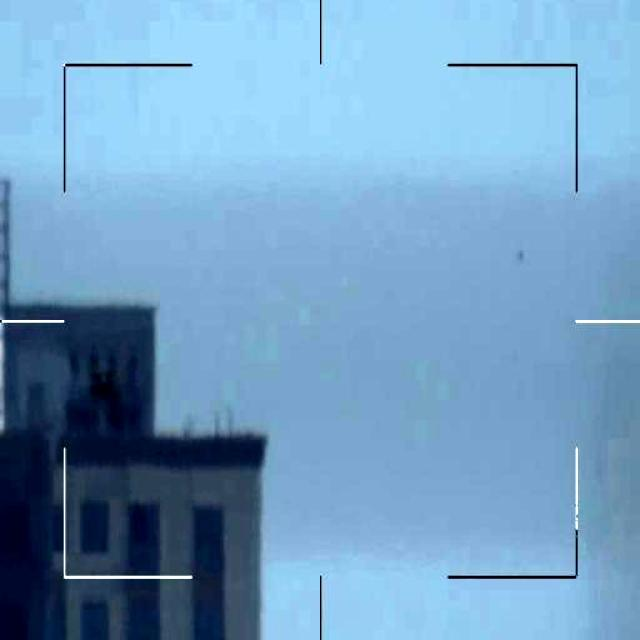bird: (60, 341, 145, 421)
